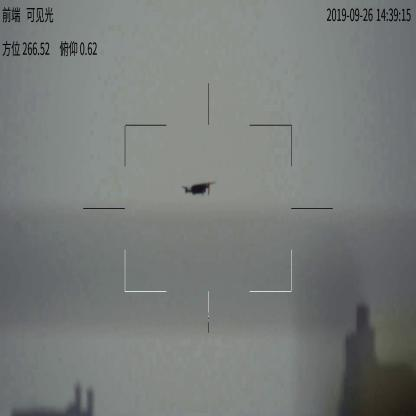uav: (180, 180, 214, 200)
